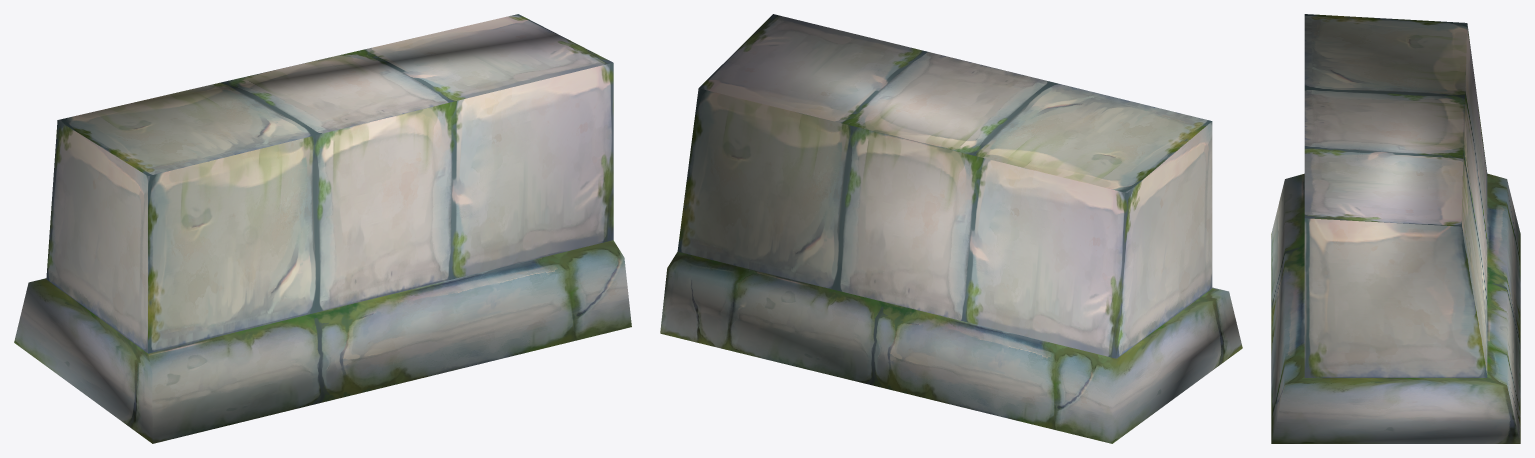
File: geo_temple_obstacle_04.fbx
The picture shows the model from 3 angles, left to right: view 1: azimuth 30°, elevation 25°; view 2: azimuth 150°, elevation 25°; view 3: azimuth 270°, elevation 25°; orthographic projection. The views are drawn at different scales.
Parts seen in each view (by area): view 1: geo_Temple_Stair_LP.012; view 2: geo_Temple_Stair_LP.012; view 3: geo_Temple_Stair_LP.012.
Boxes of the visible parts, <box> form: geo_Temple_Stair_LP.012: <box>14,14,631,443</box>; geo_Temple_Stair_LP.012: <box>660,14,1242,443</box>; geo_Temple_Stair_LP.012: <box>1271,14,1520,443</box>.
Size of the model in its own units: 2 by 1 by 1.
